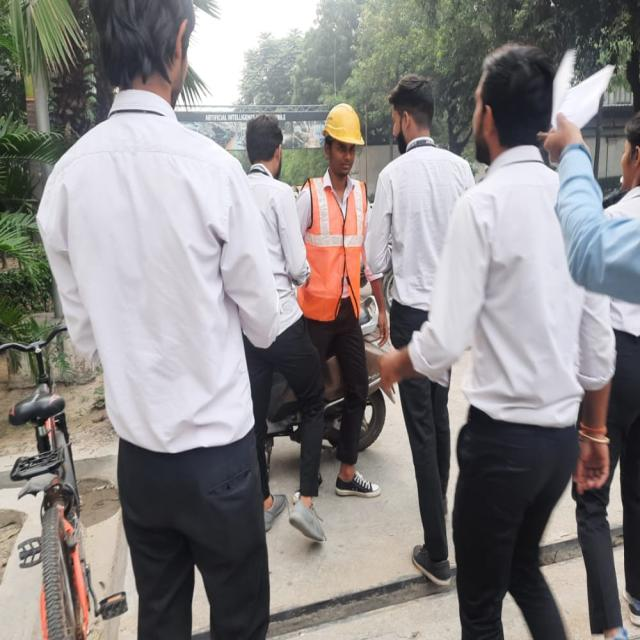safe: (299, 100, 380, 503)
unsafe: (34, 0, 286, 640), (411, 42, 615, 640), (366, 74, 486, 586), (235, 108, 328, 550)
